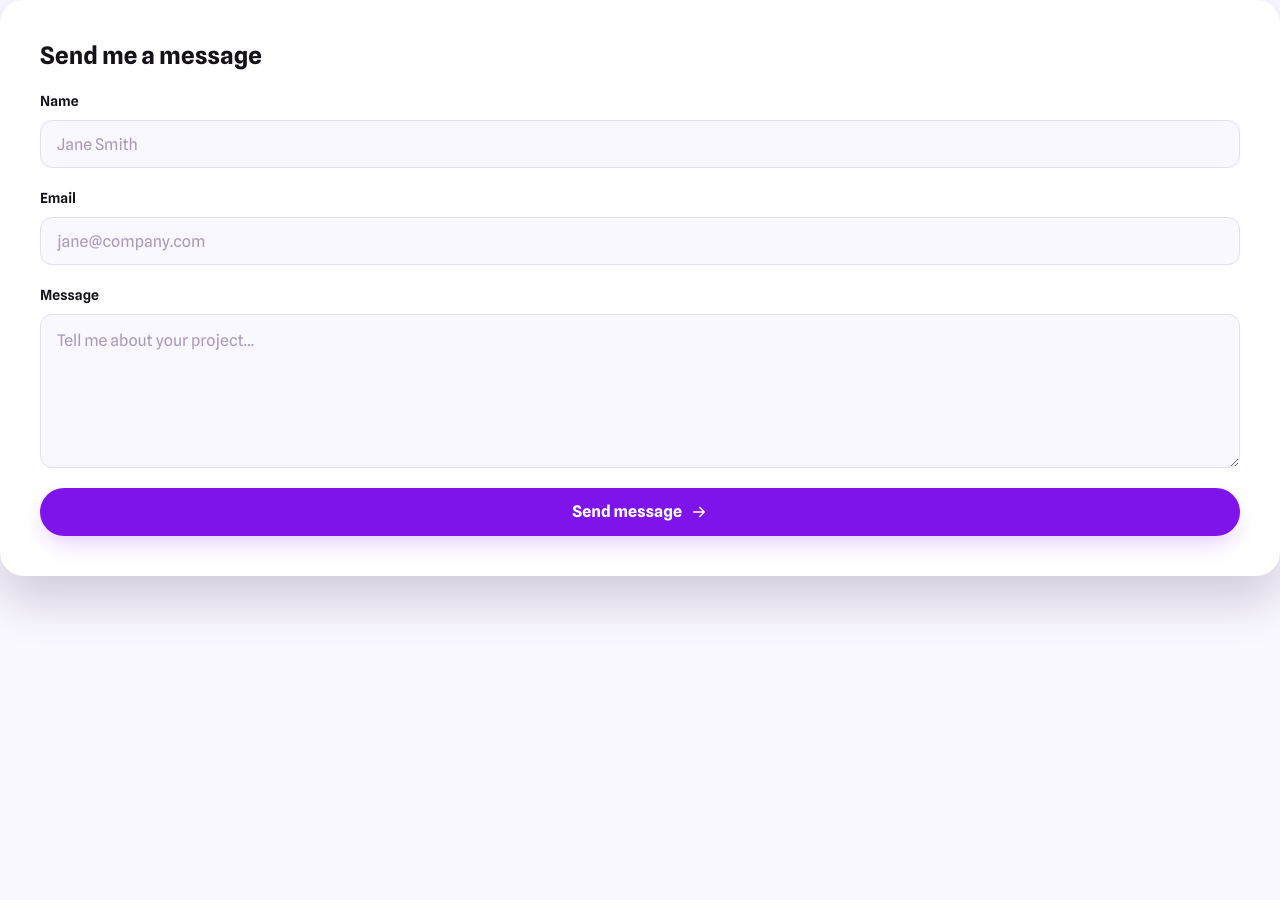
it: ContactForm › shows an error summary and inline errors when submitted empty
The image size is (1280, 900).
Click the button "Send message" at (640, 512), box 40,488 -> 1240,536
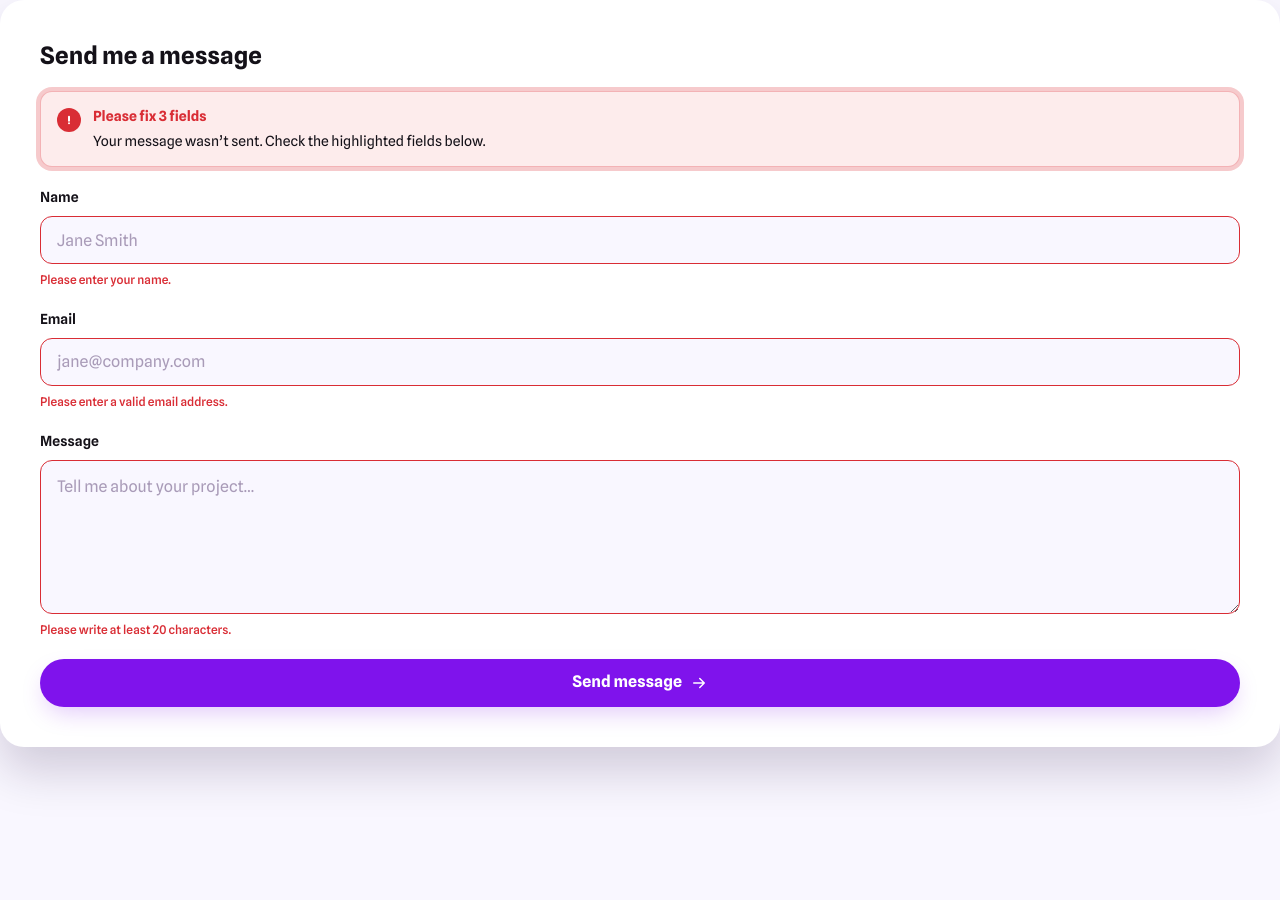
Check: the message shows "Please fix 3 fields", box 93,108 -> 206,124
